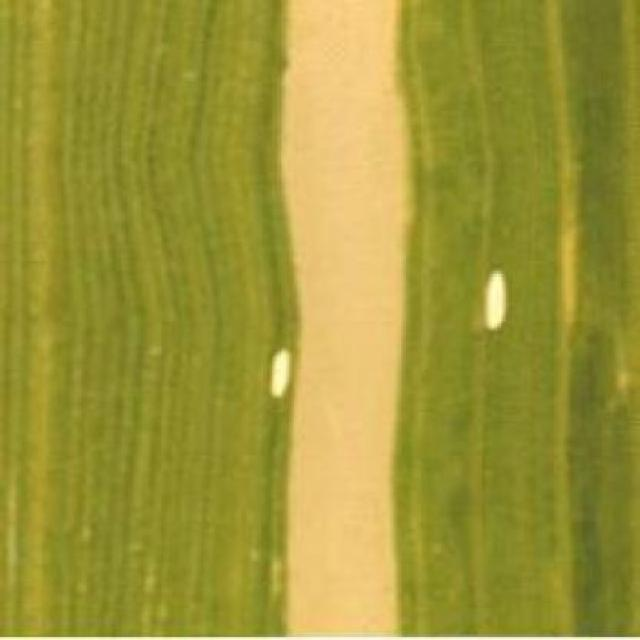whorl-maggot: (479, 258, 515, 352), (264, 330, 296, 412)
